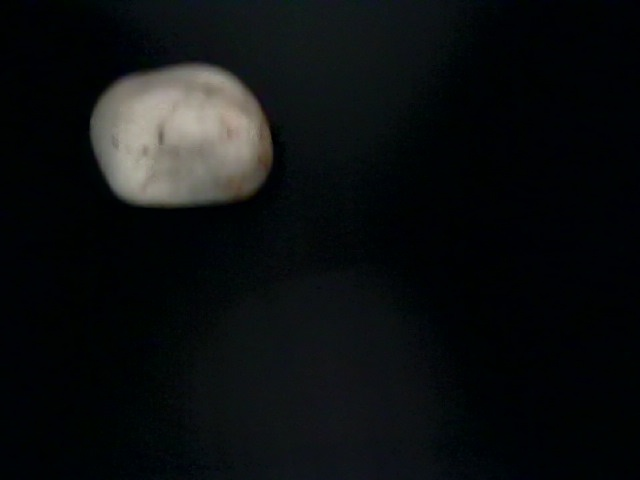QTLJ: (453, 82, 640, 354)
